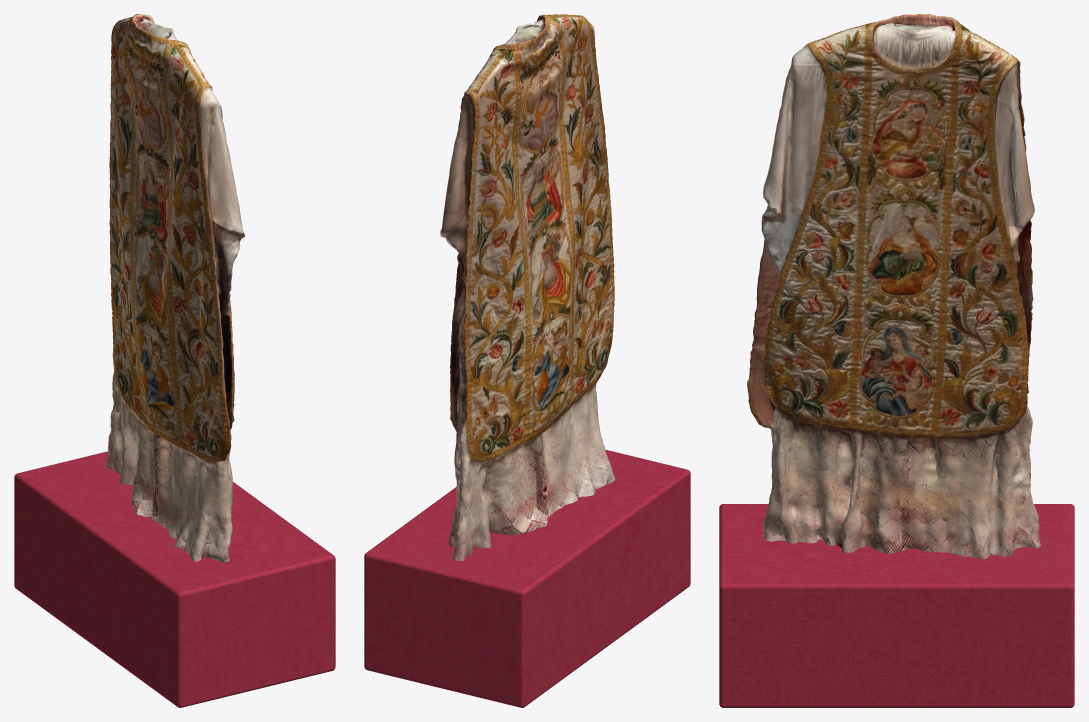
The model's file is casulla-santa-ana.glb.
3 views of the same model, side by side, from view 1: azimuth 30°, elevation 25°; view 2: azimuth 150°, elevation 25°; view 3: azimuth 270°, elevation 25° (orthographic). The views are drawn at different scales.
Parts seen in each view (by area): view 1: Mesh_0, pCube1; view 2: Mesh_0, pCube1; view 3: Mesh_0, pCube1.
Boxes of the visible parts, x1,y1,x2,y2 form: Mesh_0: (106,14,244,562); pCube1: (14,451,335,707); Mesh_0: (440,14,615,560); pCube1: (364,449,690,707); Mesh_0: (747,14,1040,558); pCube1: (719,504,1074,707).
Size of the model in its own units: 1.61 by 5.81 by 2.91.
2 materials, 2 textured.
